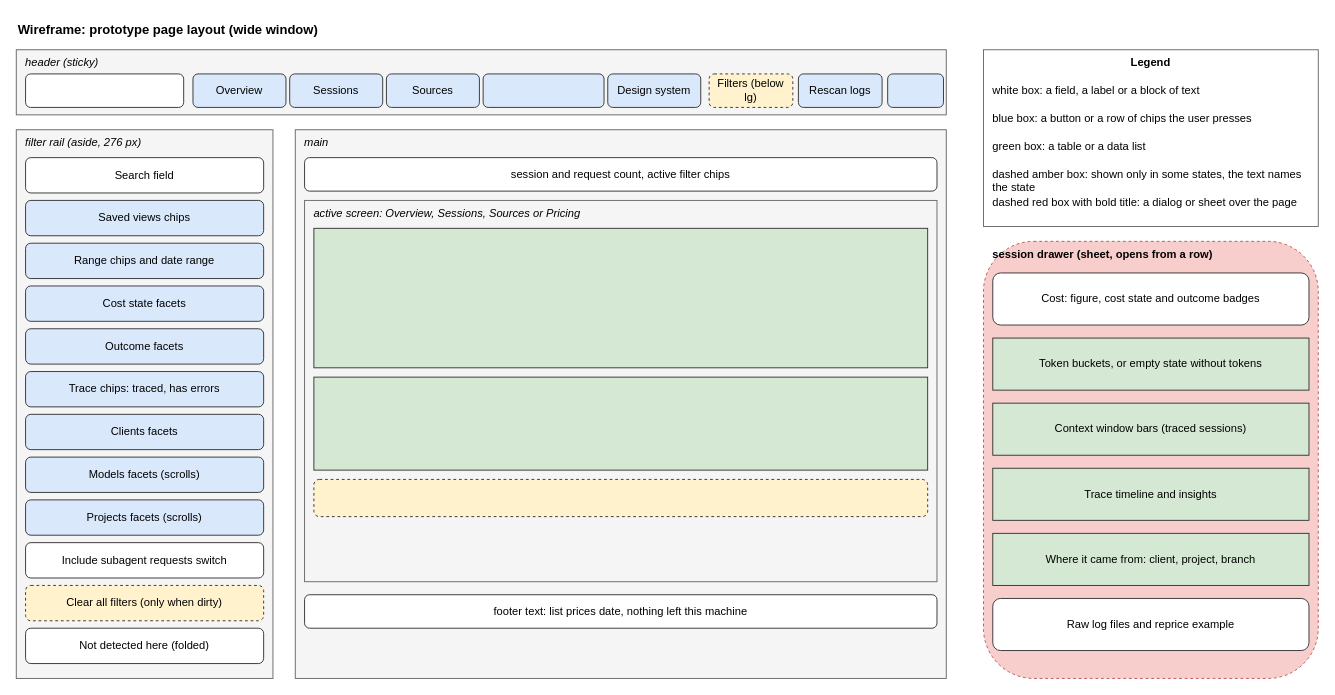
Some shapes in this 1335 by 695 pixel diagram are drawn without their labels. Here are the shapes that lost their labels. From the top down, the centre of each, then its label:
the point at 104,90: ai-usage-cost, local read only
the point at 543,90: Models and pricing
the point at 915,90: Theme
the point at 620,297: sessions table: ten sortable columns, rows open the drawer
the point at 620,423: panels: KPI tiles, charts, meters, rate table
the point at 620,497: phone width: cards instead of the table
